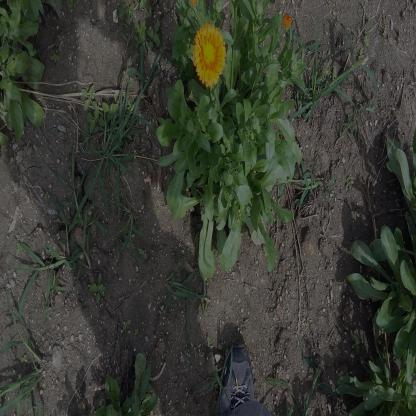marigold: (192, 22, 226, 88)
